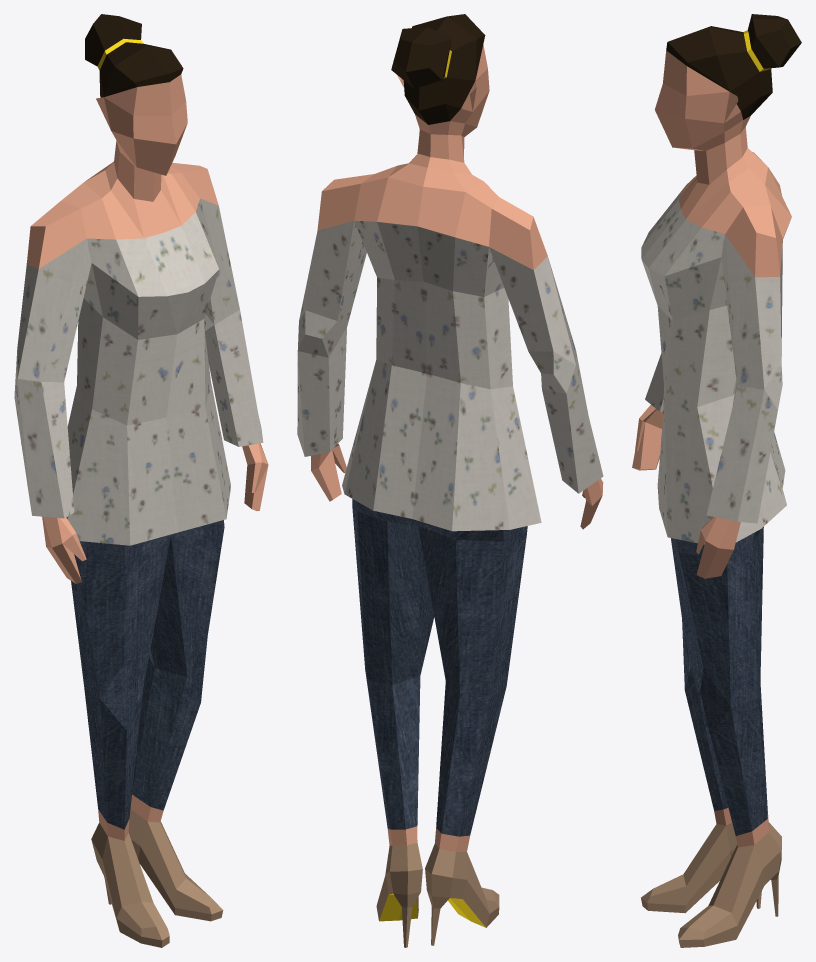
File: SpringWomanA.006.glb
3 renders of one model, left to right at view 1: azimuth 30°, elevation 25°; view 2: azimuth 150°, elevation 25°; view 3: azimuth 270°, elevation 25°, orthographic. The views are drawn at different scales.
Visible parts, largest first — view 1: SpringWomanA.007; view 2: SpringWomanA.007; view 3: SpringWomanA.007.
Boxes of the visible parts, x1,y1,x2,y2 form: SpringWomanA.007: [14, 14, 268, 947]; SpringWomanA.007: [297, 14, 603, 947]; SpringWomanA.007: [632, 14, 801, 947].
Size of the model in its own units: 0.5334 by 1.72 by 0.2951.
Materials: 1 (1 with a texture image).
